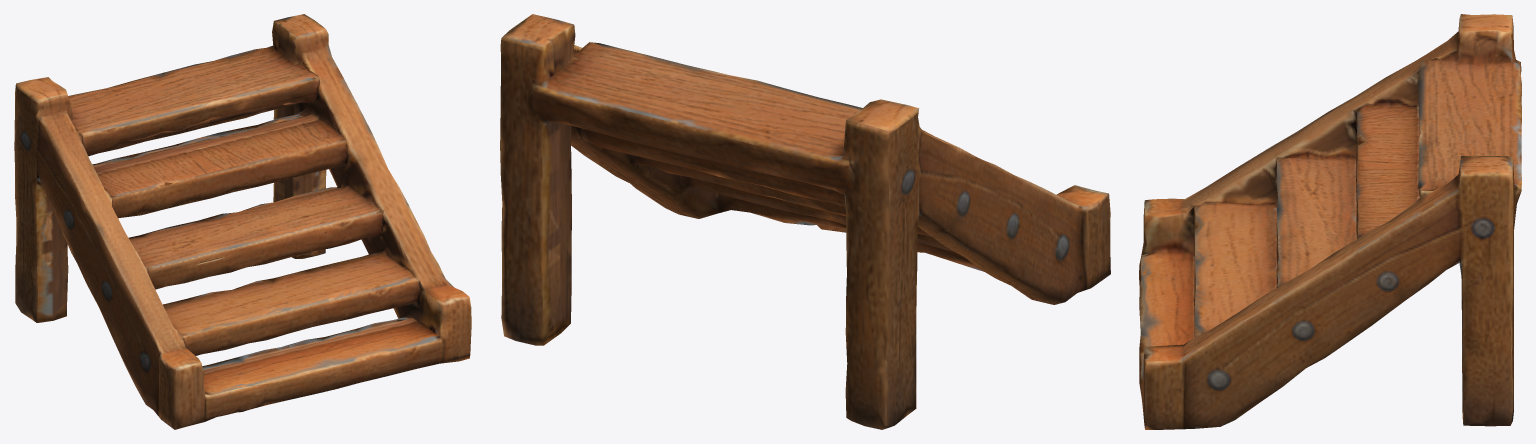
3 renders of one model, left to right at view 1: azimuth 30°, elevation 25°; view 2: azimuth 150°, elevation 25°; view 3: azimuth 270°, elevation 25°, orthographic. The views are drawn at different scales.
Visible parts, largest first — view 1: texture_mapping; view 2: texture_mapping; view 3: texture_mapping.
Boxes of the visible parts, x1,y1,x2,y2 form: texture_mapping: [14, 14, 471, 429]; texture_mapping: [500, 14, 1110, 429]; texture_mapping: [1139, 14, 1521, 429].
Size of the model in its own units: 1 by 0.7359 by 0.9937.
1 material, 1 textured.
